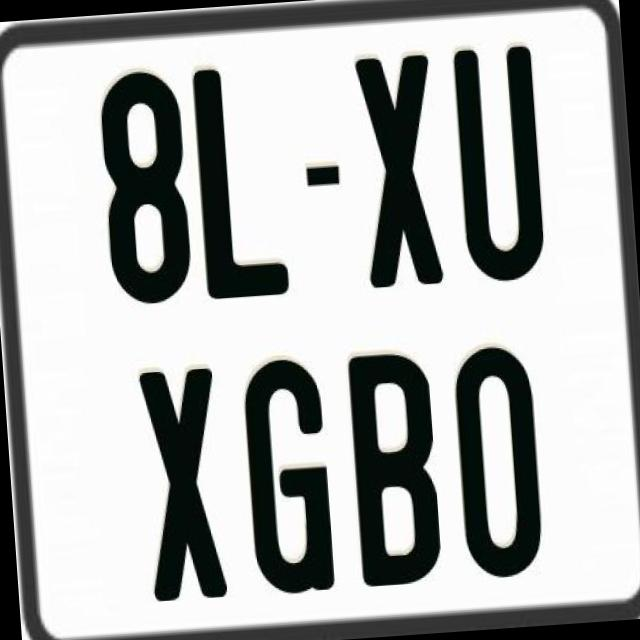0: (448, 339, 546, 578)
8: (94, 66, 198, 306)
B: (348, 346, 444, 590)
G: (242, 356, 338, 598)
L: (188, 60, 286, 302)
U: (450, 42, 546, 279)
X: (351, 49, 445, 288), (138, 364, 232, 598)
